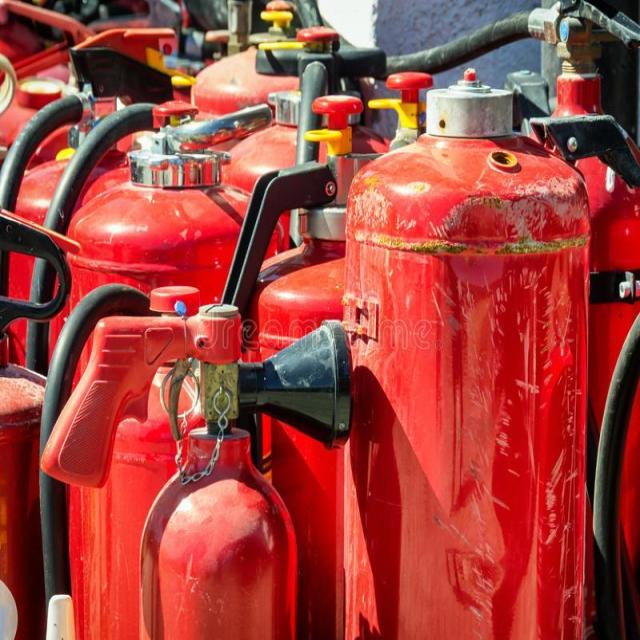fire_extinguisher: (328, 67, 603, 639), (26, 96, 304, 639), (213, 88, 476, 639), (39, 282, 358, 639), (562, 121, 640, 639), (0, 185, 77, 639)
